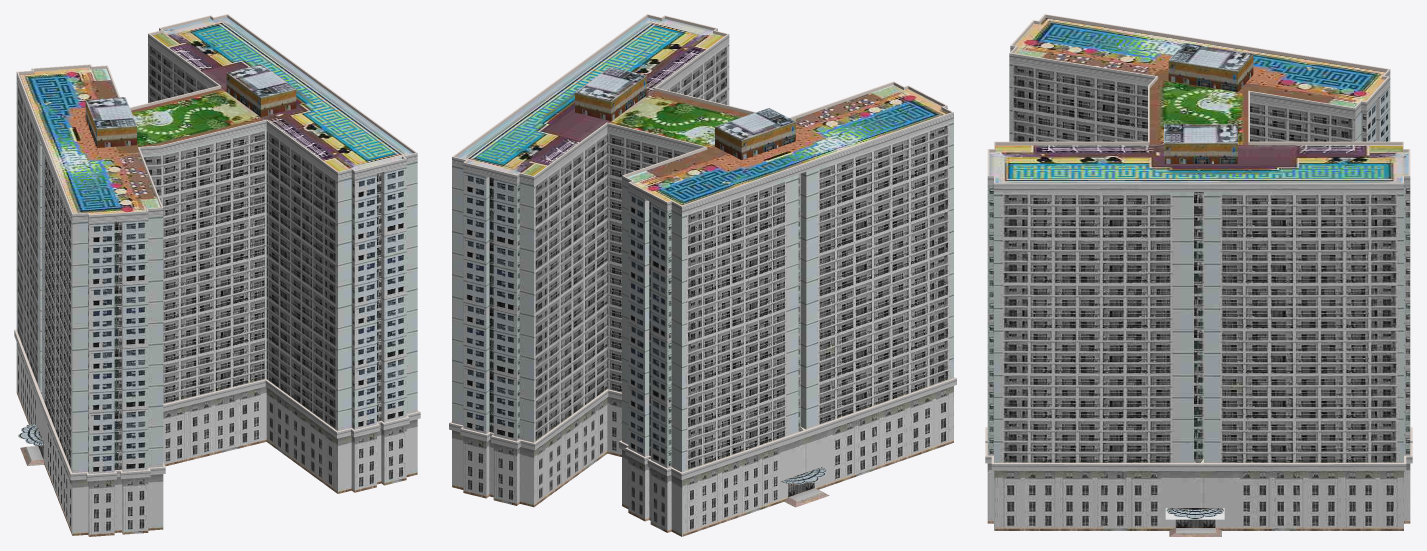
The picture shows the model from 3 angles, left to right: view 1: azimuth 30°, elevation 25°; view 2: azimuth 150°, elevation 25°; view 3: azimuth 270°, elevation 25°; orthographic projection. The views are drawn at different scales.
Parts seen in each view (by area): view 1: 5b21d9a5cd18d02d045a5e99; view 2: 5b21d9a5cd18d02d045a5e99; view 3: 5b21d9a5cd18d02d045a5e99.
Part boxes in pixels (x1,y1,x2,y2): 5b21d9a5cd18d02d045a5e99: (14,14,420,536); 5b21d9a5cd18d02d045a5e99: (449,14,956,536); 5b21d9a5cd18d02d045a5e99: (985,14,1412,536).
Size of the model in its own units: 121 by 113 by 119.
Materials: 1 (1 with a texture image).
